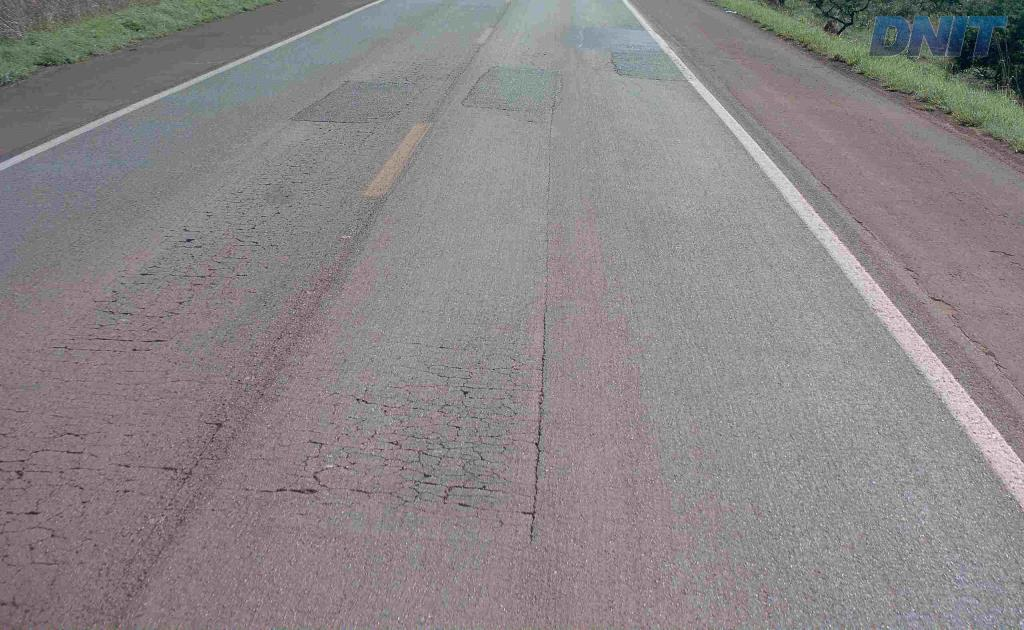crack: (520, 419, 544, 544)
